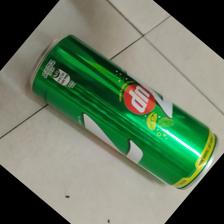7up: (30, 33, 220, 190)
